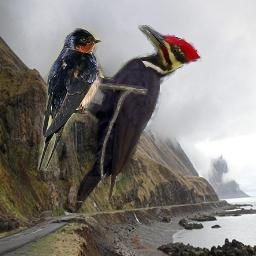Swallow: (35, 26, 103, 171)
Woodpecker: (72, 25, 202, 213)
